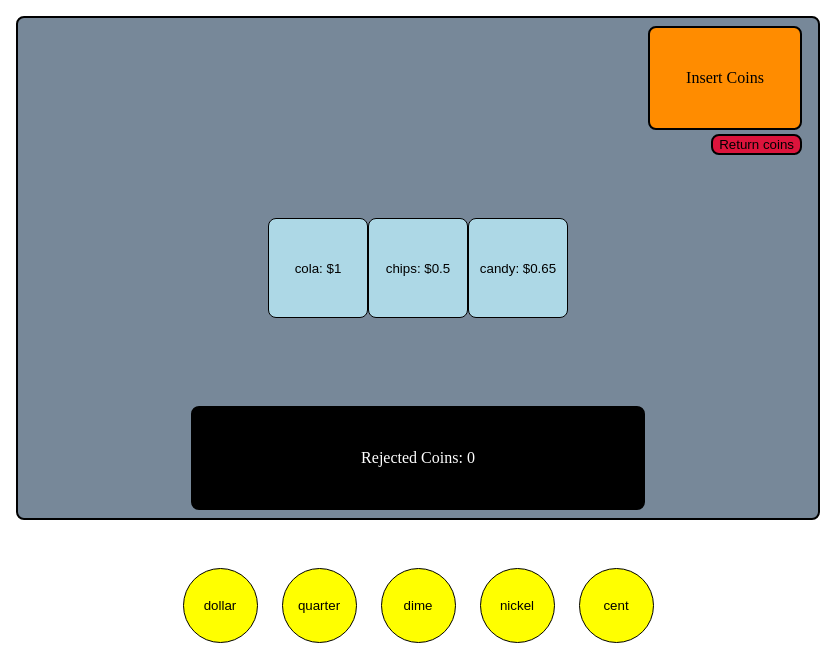
Test: UI elements have the correct affect on UI › Invalid coins are rejected
(page scrolled)
Click the button with test id "dollar" at (220, 606), box 182,568 -> 258,643
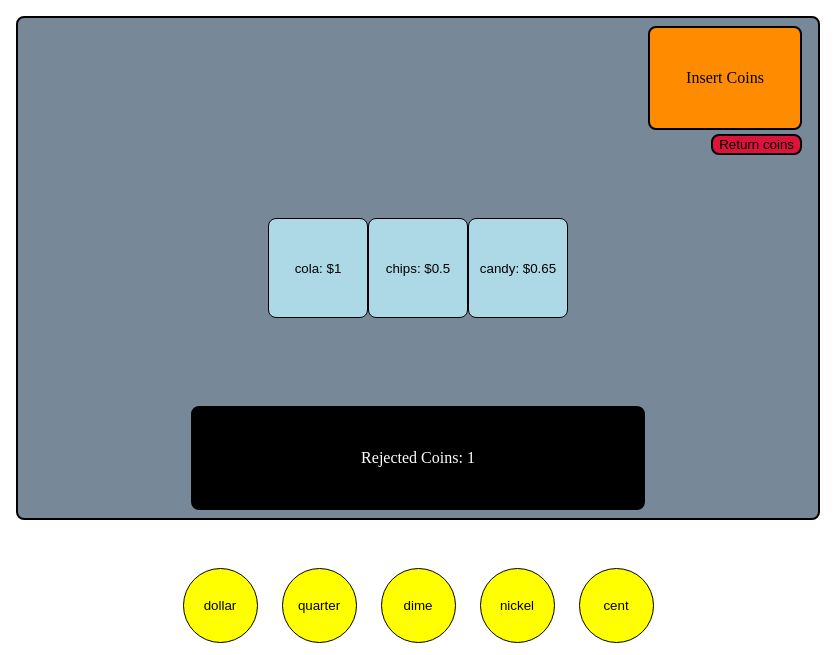
Click the button with test id "cent" at (616, 606), box 578,568 -> 654,643
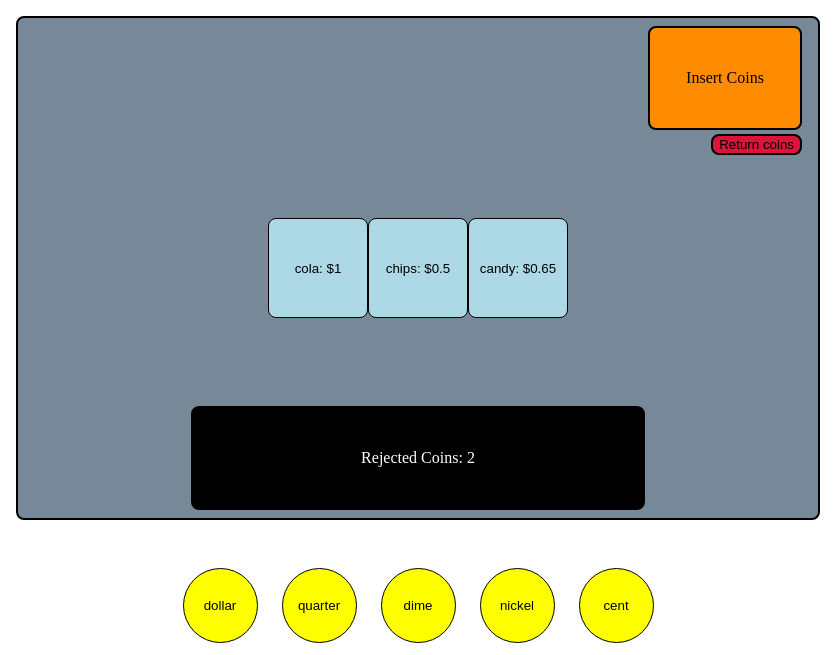
Expected: the text with test id "coin-total" reads "Insert Coins", 686,69 -> 764,86
Now the text with test id "rejected-coins" reads "Rejected Coins: 2", box 361,449 -> 475,467
